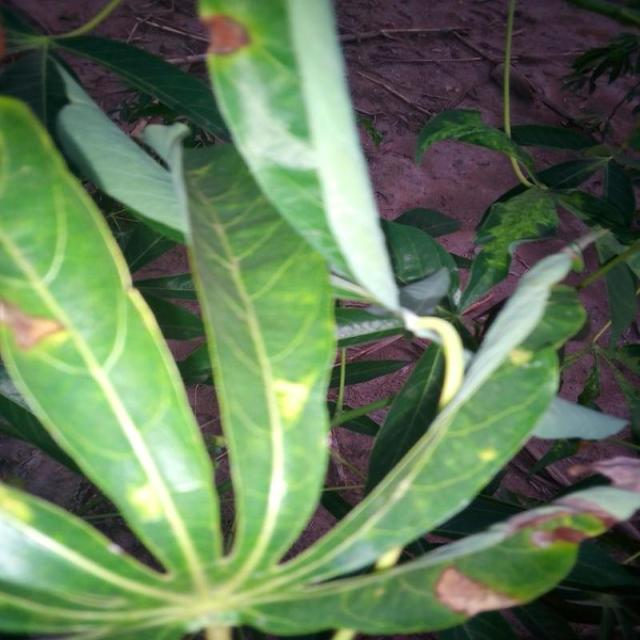cassava leaf: (2, 4, 636, 636), (2, 93, 224, 583), (198, 0, 403, 319)
